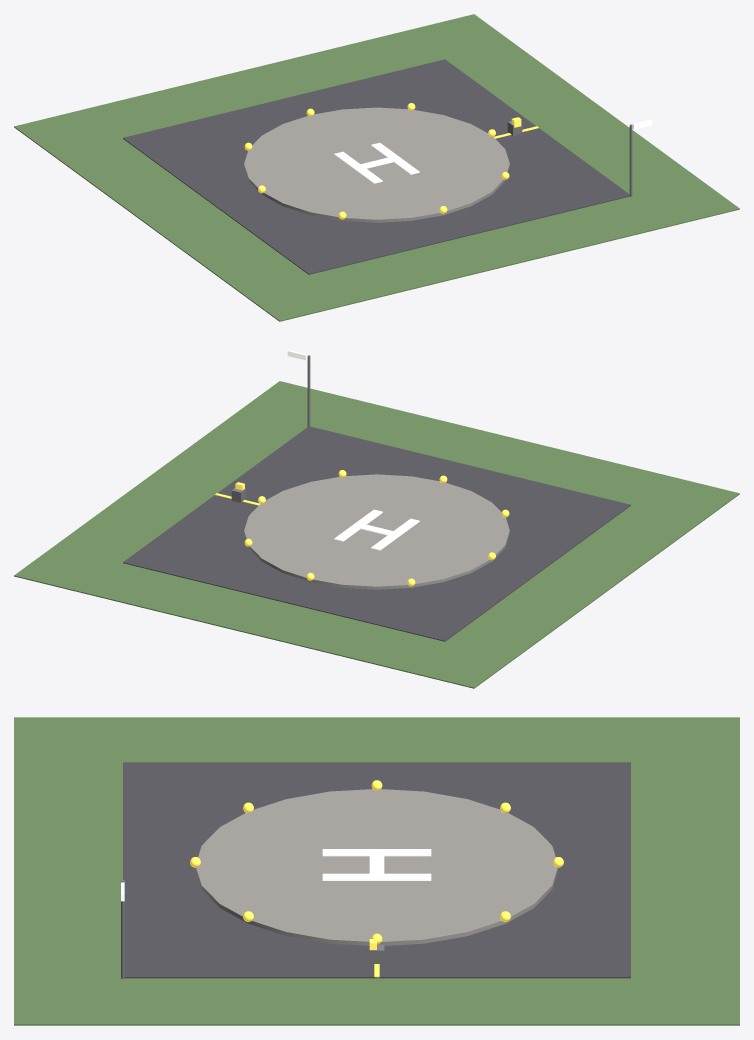
The model's file is helipad.glb.
3 renders of one model, top to bottom at view 1: azimuth 30°, elevation 25°; view 2: azimuth 150°, elevation 25°; view 3: azimuth 270°, elevation 25°, orthographic. The views are drawn at different scales.
Parts seen in each view (by area): view 1: ground, approach, pad; view 2: ground, approach, pad; view 3: ground, approach, pad, h_left, h_right.
Part boxes in pixels (box(x1,y1,x2,y2)): ground: box(14, 14, 739, 321); approach: box(123, 59, 629, 274); pad: box(244, 107, 509, 222); ground: box(14, 381, 739, 688); approach: box(123, 426, 630, 641); pad: box(244, 474, 509, 589); ground: box(14, 717, 739, 1025); approach: box(123, 762, 630, 978); pad: box(195, 789, 558, 945); h_left: box(322, 849, 431, 856); h_right: box(322, 873, 431, 880).
Size of the model in its own units: 20 by 3 by 20.
